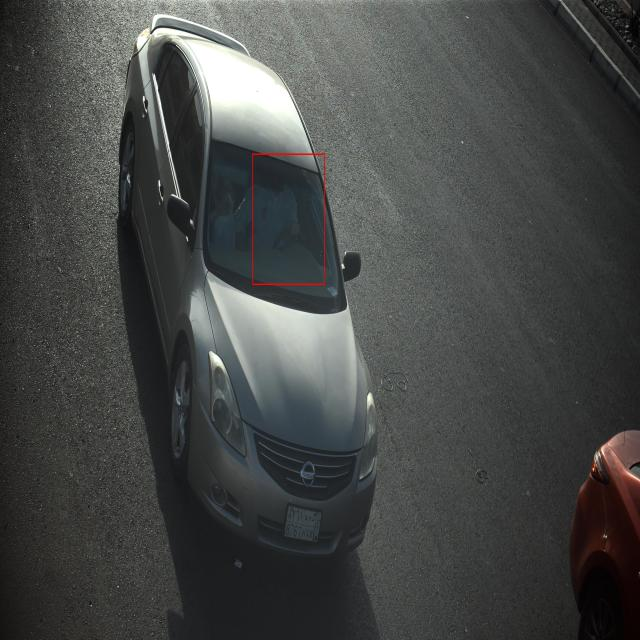windshield: (194, 123, 350, 314)
